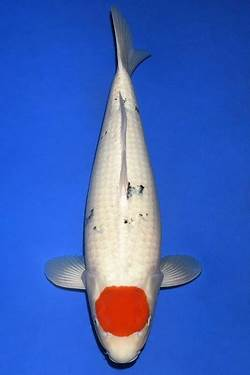sun: (45, 8, 202, 365)
